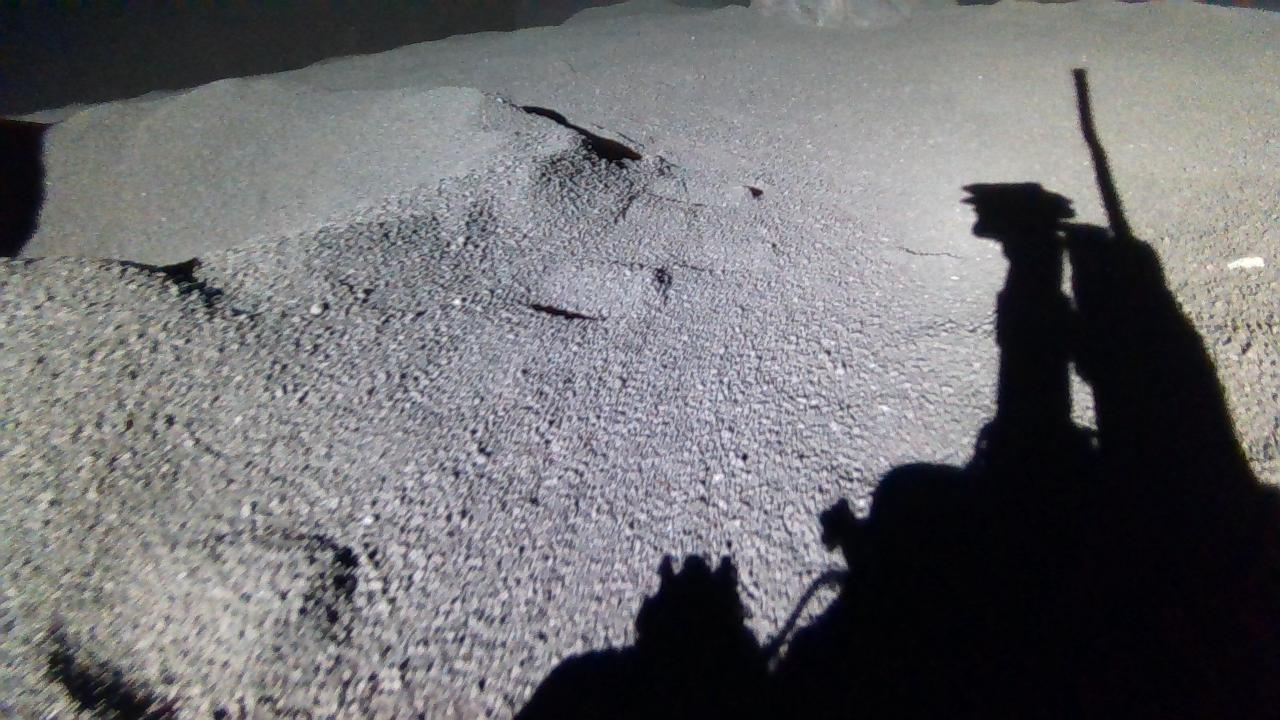rock: (752, 0, 957, 26)
